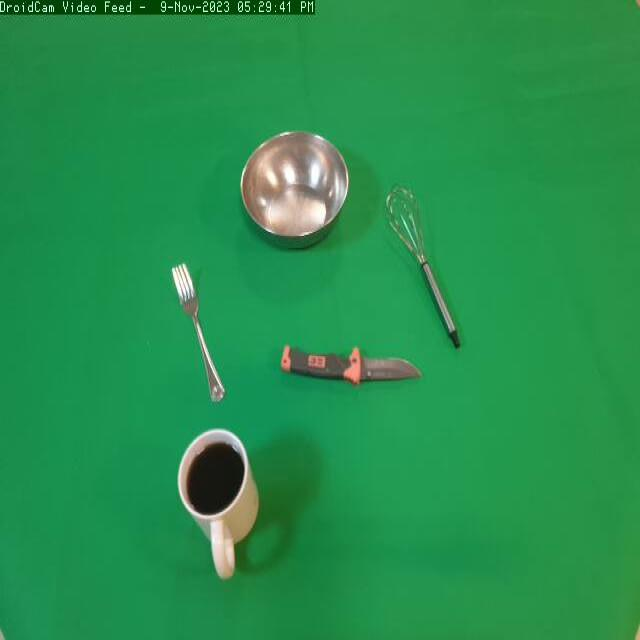bowl: (236, 127, 350, 254)
fork: (162, 243, 237, 409)
fullcup: (168, 416, 275, 594)
knife: (275, 335, 432, 409)
whisk: (380, 172, 473, 358)
